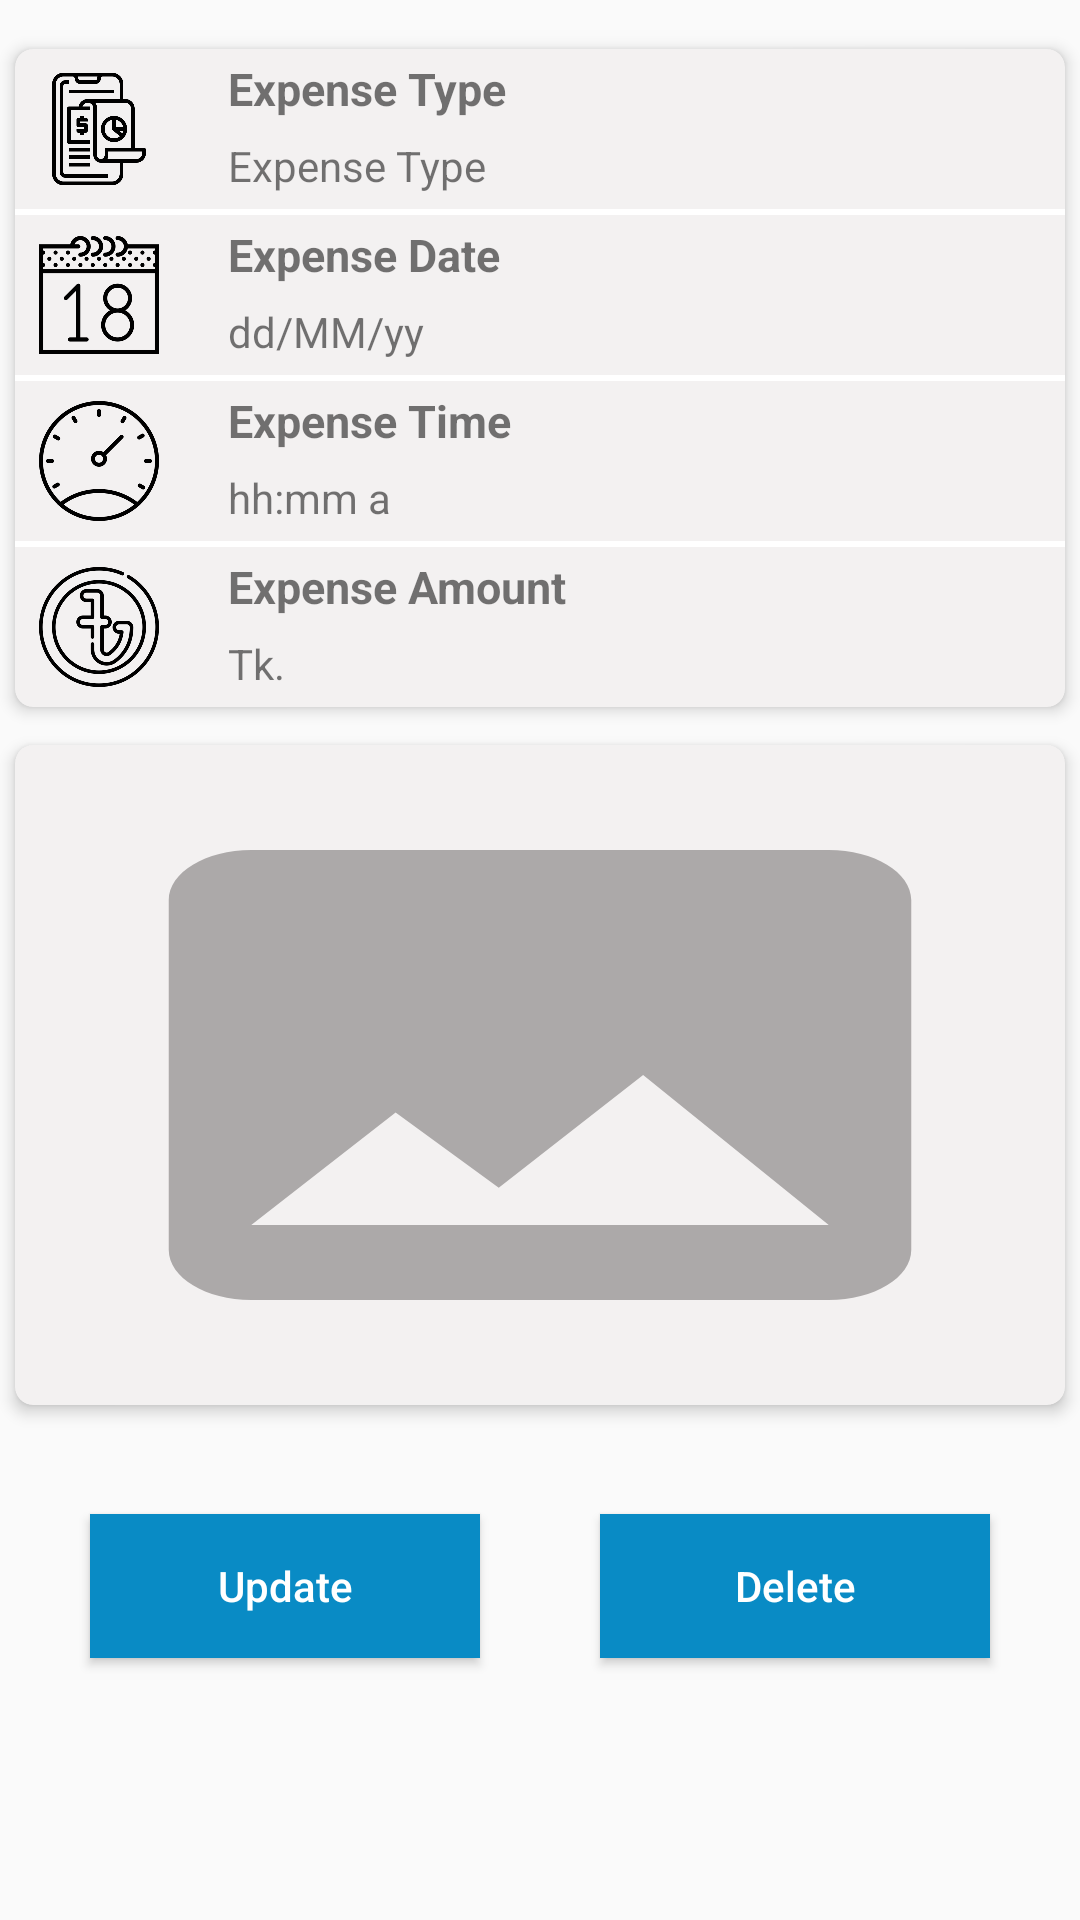

Icon bounding boxes for this 1080px x 1920px phone screenshot, format bbox=[x1, y1, x2, y2]:
analysis: bbox=[52, 73, 146, 185]
calendar: bbox=[39, 236, 159, 354]
taka: bbox=[39, 567, 159, 687]
